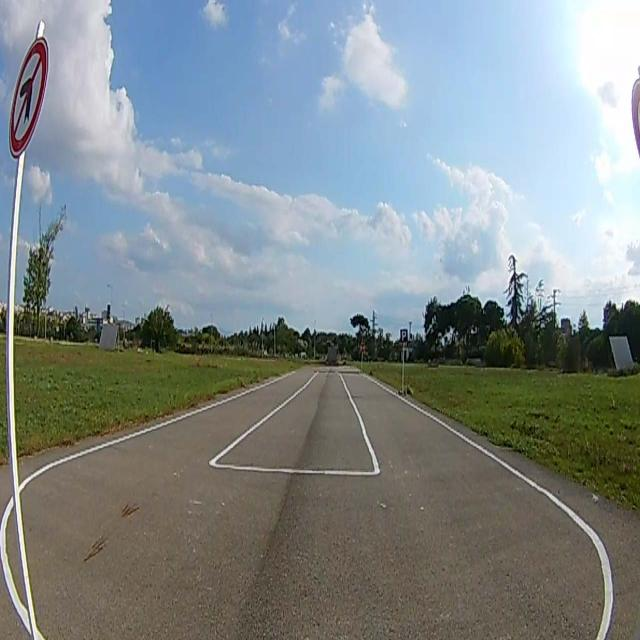soladonulmez: (10, 41, 49, 155)
